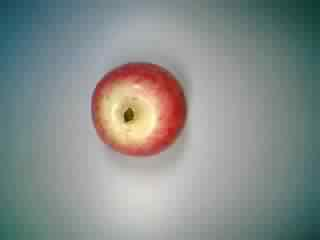apple: (86, 55, 190, 159)
